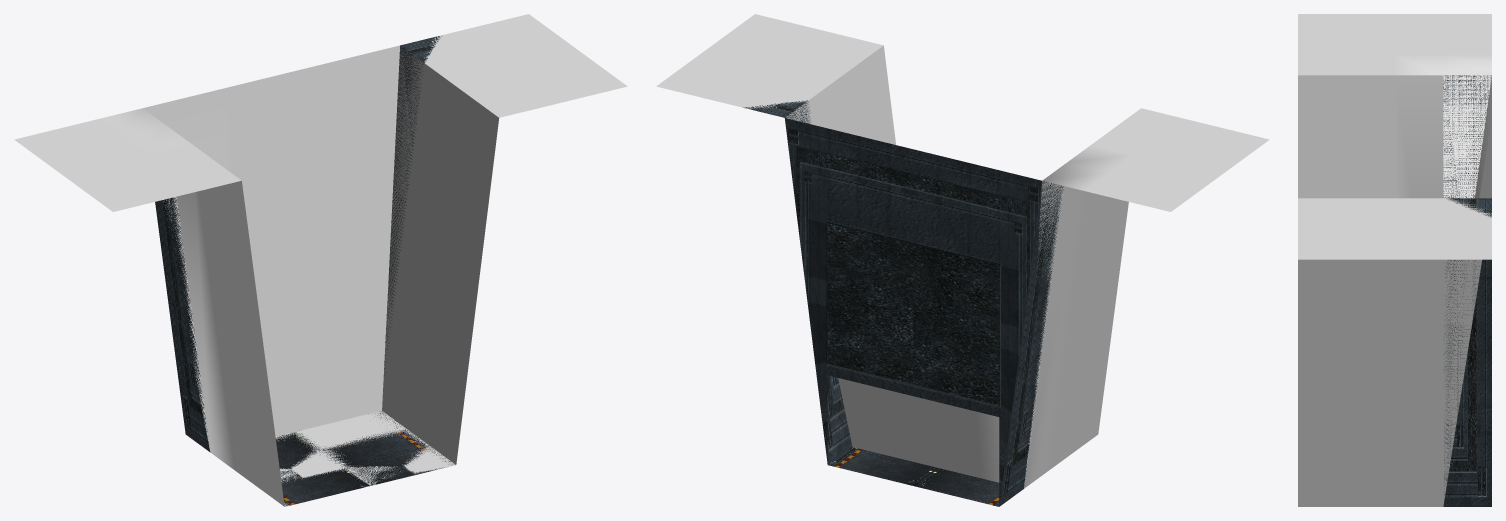
The model's file is pbtunn03.FBX.
3 renders of one model, left to right at view 1: azimuth 30°, elevation 25°; view 2: azimuth 150°, elevation 25°; view 3: azimuth 270°, elevation 25°, orthographic. The views are drawn at different scales.
Parts seen in each view (by area): view 1: terrain__h, pbtunn03; view 2: pbtunn03, terrain__h; view 3: terrain__h, pbtunn03.
Boxes of the visible parts, x1=… form: terrain__h: x1=14, y1=14, x2=627, y2=506; pbtunn03: x1=155, y1=36, x2=454, y2=506; pbtunn03: x1=743, y1=100, x2=1063, y2=506; terrain__h: x1=656, y1=14, x2=1269, y2=488; terrain__h: x1=1298, y1=14, x2=1491, y2=506; pbtunn03: x1=1443, y1=75, x2=1491, y2=506.
Size of the model in its own units: 96 by 32 by 60.
